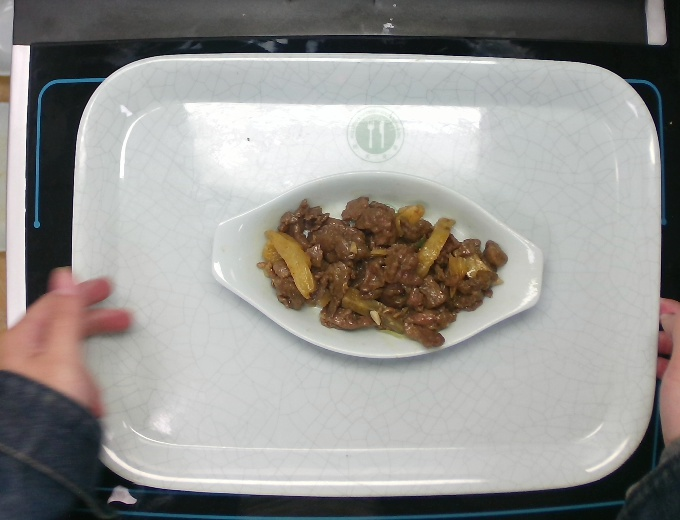JYsf-Yu_Pan: (208, 169, 546, 360)
